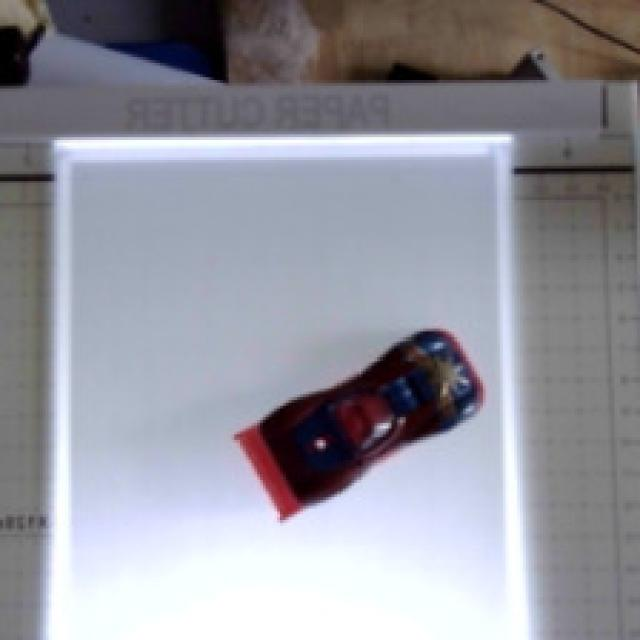Red Car: (202, 289, 496, 552)
